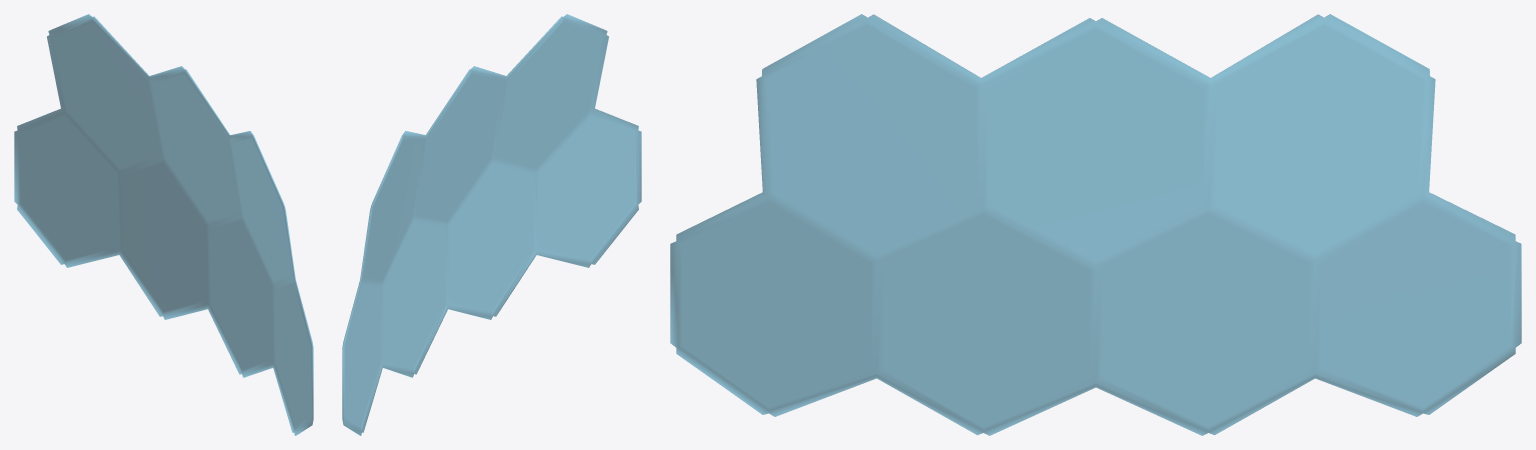
File: Shield.fbx
The picture shows the model from 3 angles, left to right: view 1: azimuth 30°, elevation 25°; view 2: azimuth 150°, elevation 25°; view 3: azimuth 270°, elevation 25°; orthographic projection. The views are drawn at different scales.
Visible parts, largest first — view 1: Sphere_6.001; view 2: Sphere_6.001; view 3: Sphere_6.001.
Boxes of the visible parts, left/top/right/bottom form: Sphere_6.001: left=14, top=14, right=313, bottom=435; Sphere_6.001: left=342, top=14, right=641, bottom=435; Sphere_6.001: left=670, top=14, right=1521, bottom=435.
Bounding box in the file's own units: 40.44 × 238 × 454.
